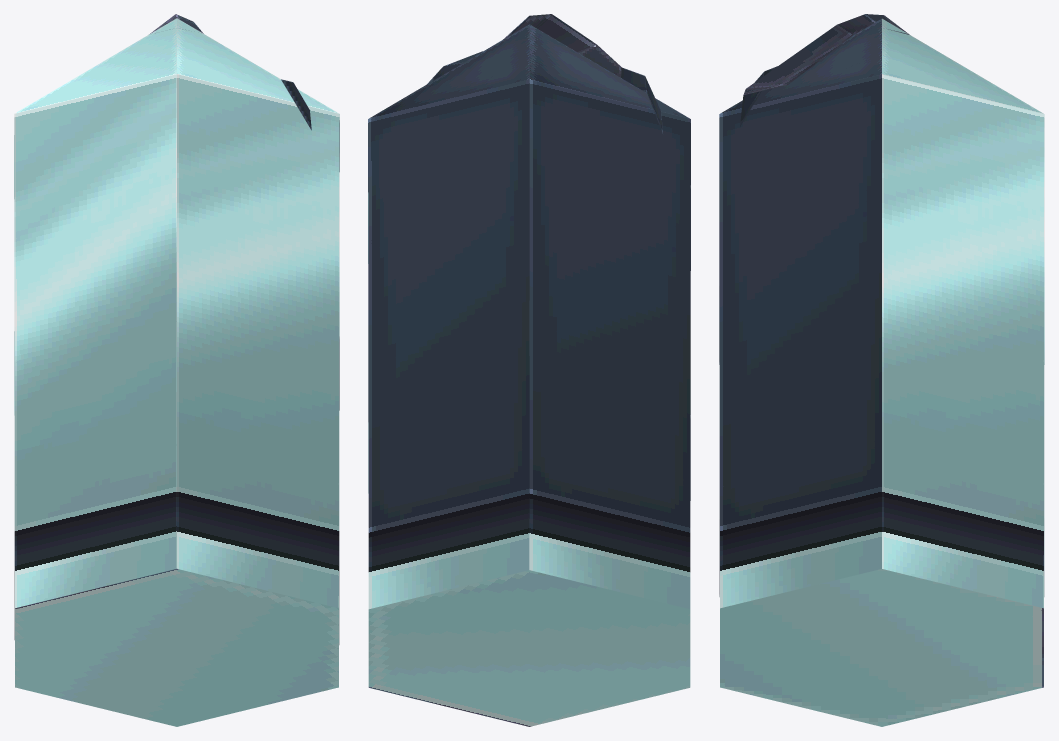
File: ps2_save-icons_legendz.glb
The picture shows the model from 3 angles, left to right: view 1: azimuth 30°, elevation 25°; view 2: azimuth 150°, elevation 25°; view 3: azimuth 270°, elevation 25°; orthographic projection.
Visible parts, largest first — view 1: static.ico; view 2: static.ico; view 3: static.ico.
Boxes of the visible parts, x1,y1,x2,y2 form: static.ico: [14, 14, 339, 726]; static.ico: [368, 14, 690, 726]; static.ico: [719, 14, 1044, 726].
Size of the model in its own units: 2.31 by 4.3 by 2.
Materials: 1 (1 with a texture image).
